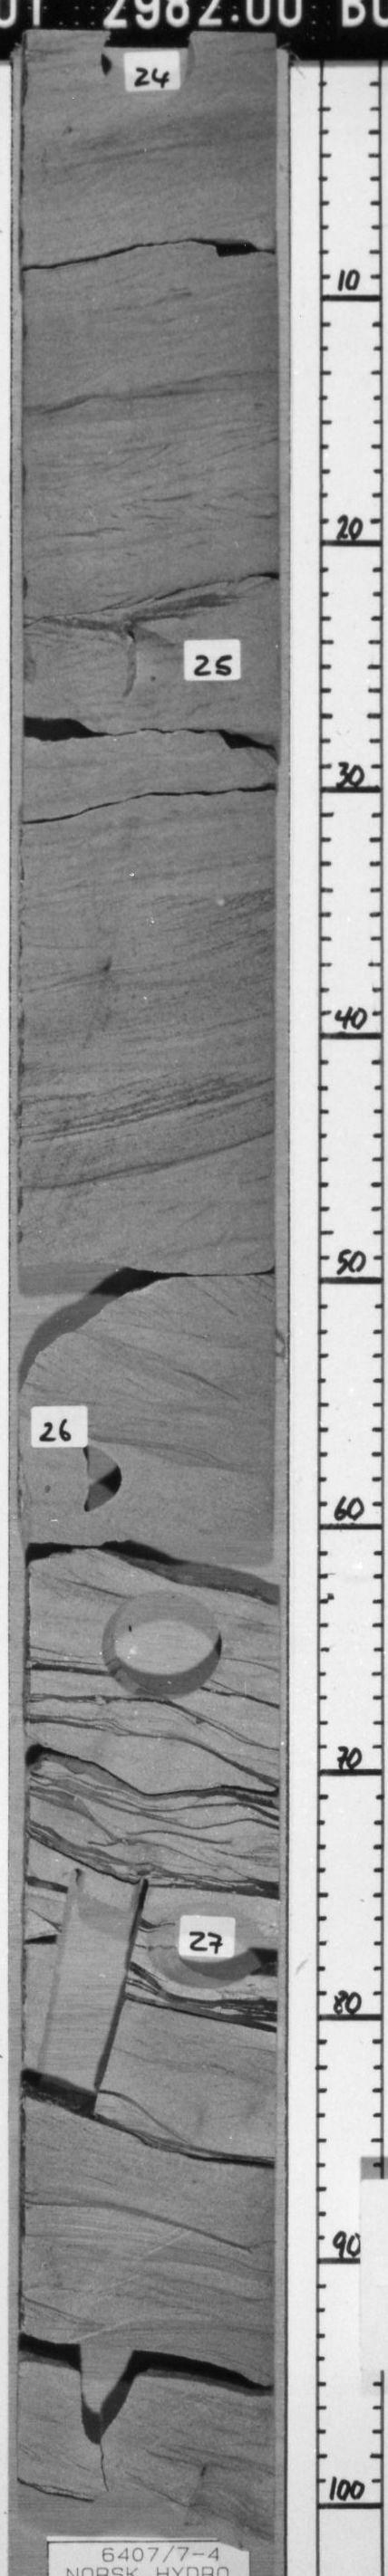hplug: (143, 1896, 276, 1994), (72, 609, 182, 710), (87, 31, 210, 110), (69, 1436, 128, 1516), (85, 2477, 181, 2525)
scal: (94, 1582, 235, 1704)
vplug: (30, 1865, 146, 2119), (66, 2331, 145, 2449), (174, 2445, 256, 2551)
